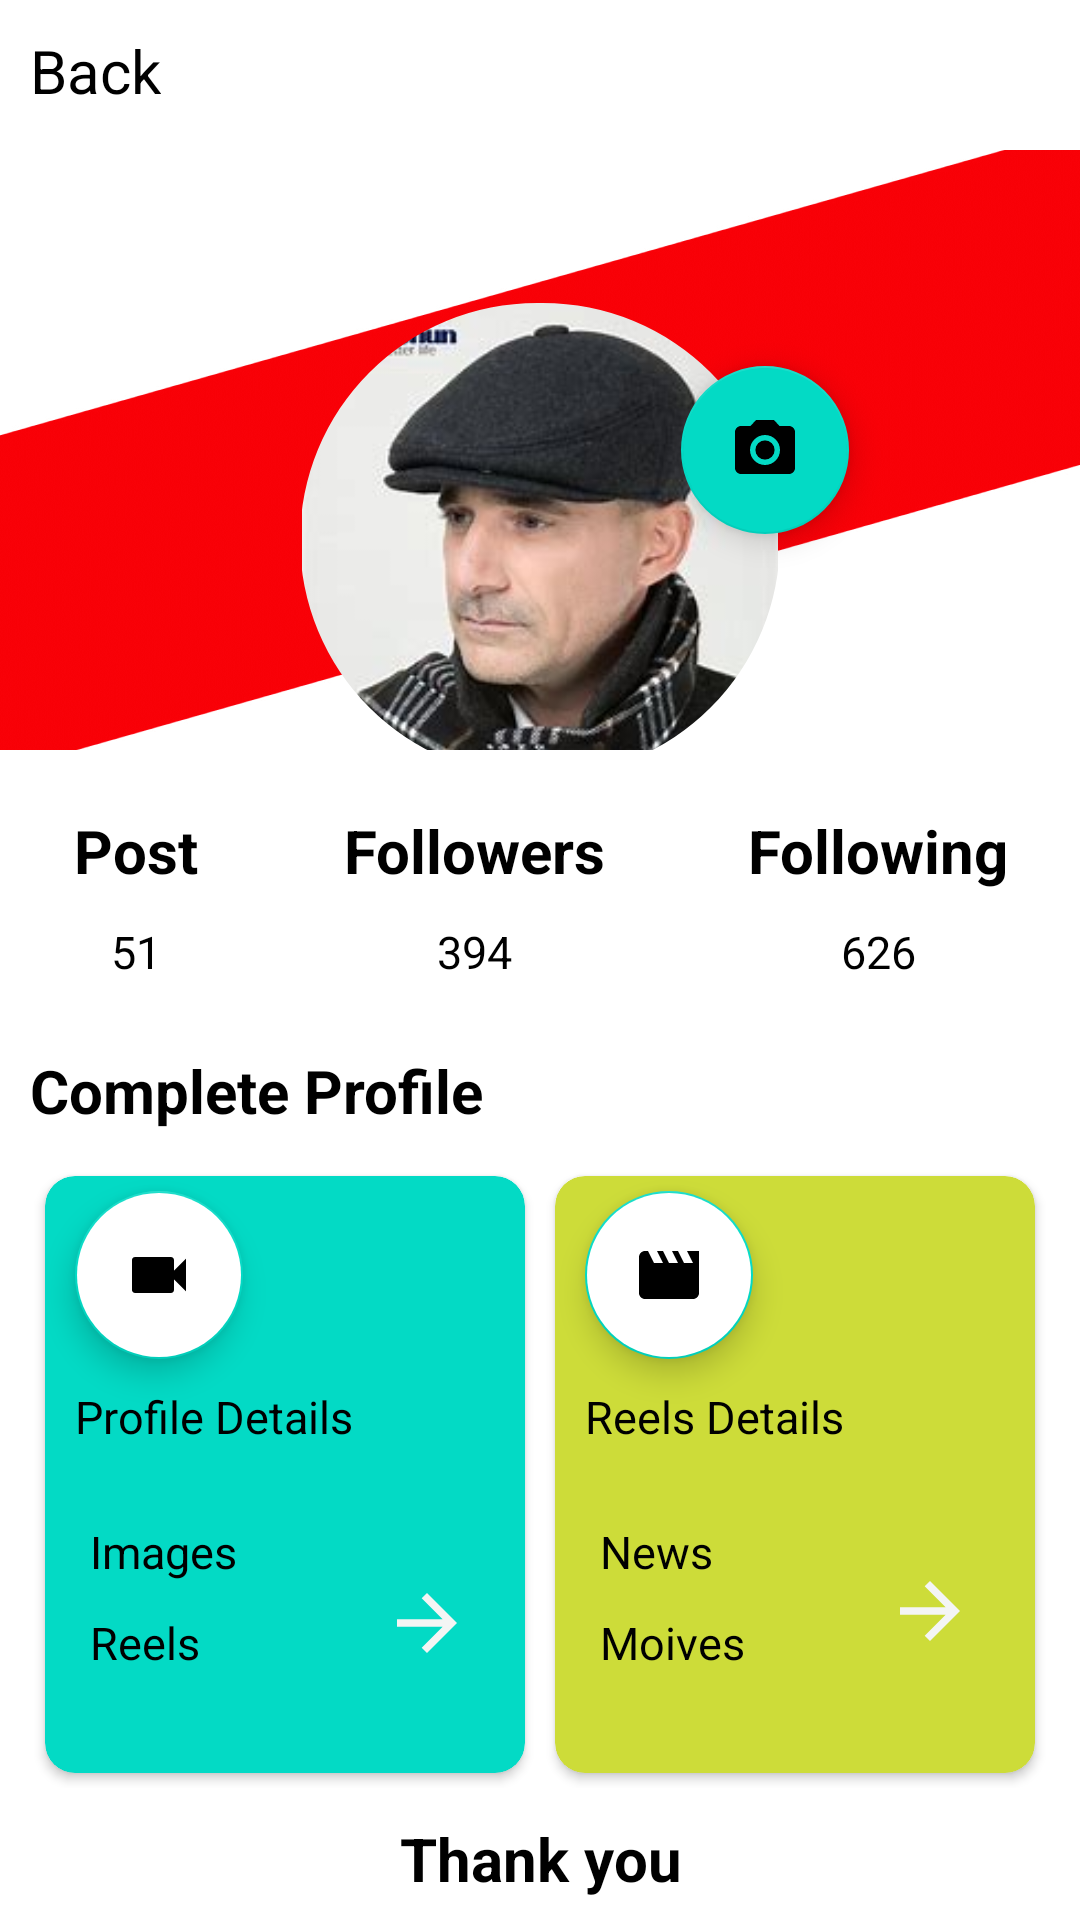

Icons on this 1080w x 1920h Android screen, each with the point to tap as [x,y]:
arrow forward: [930,1611], [427,1623]
camera: [765,450]
movie: [669,1275]
videocam: [159,1274]
